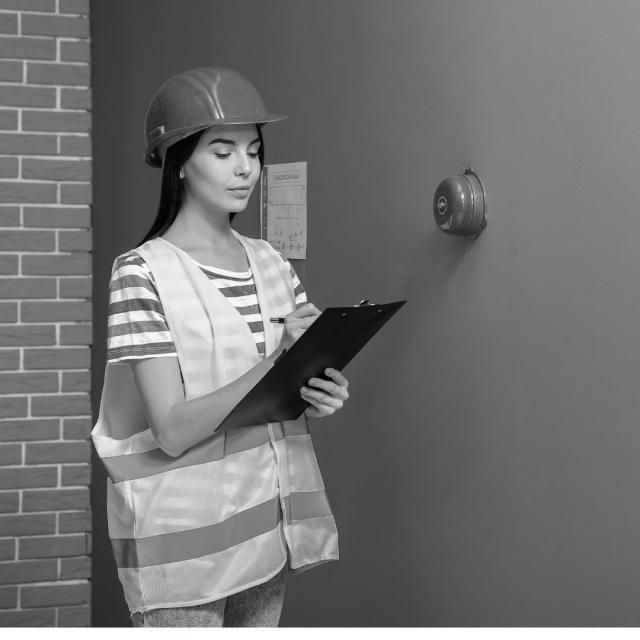safety_helmet: (143, 68, 286, 170)
